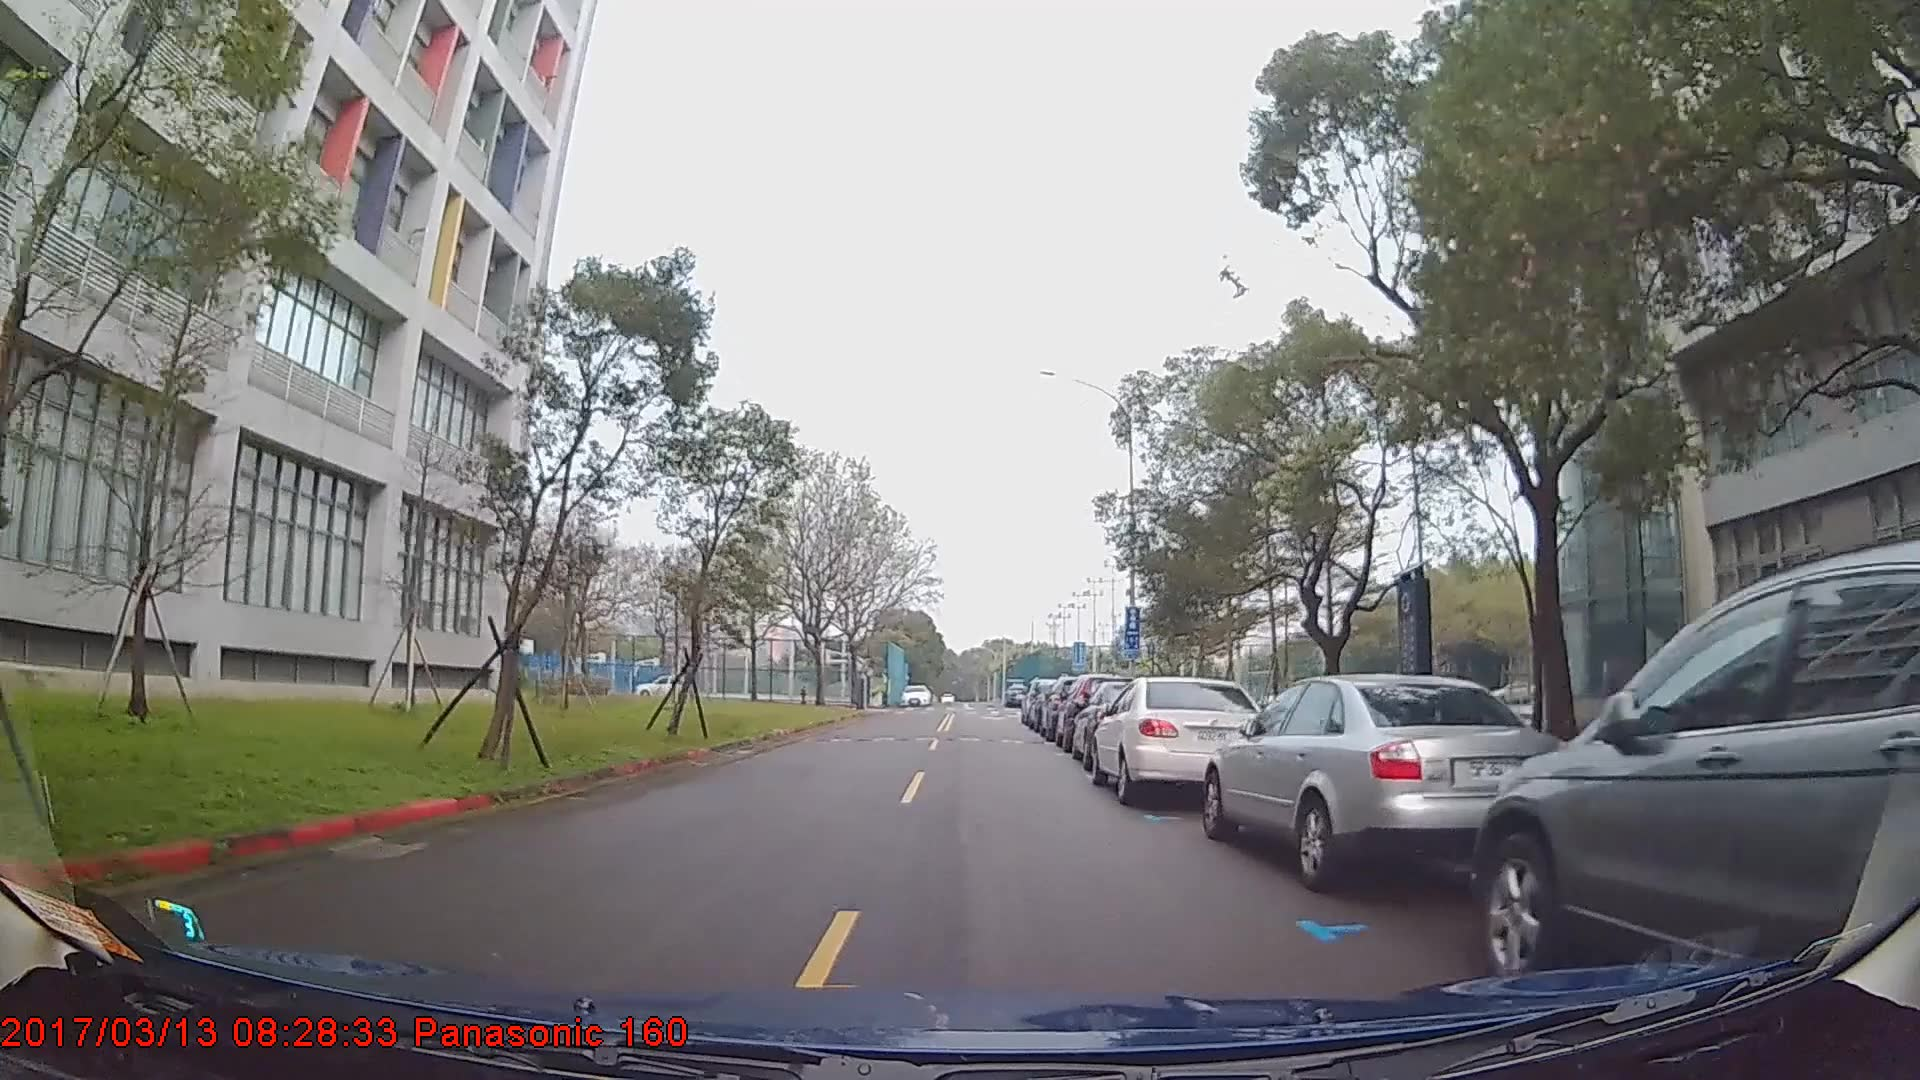vehicle: (1476, 531, 1920, 1021), (1199, 673, 1568, 889), (1089, 675, 1278, 808), (634, 673, 694, 699), (898, 683, 930, 705)
